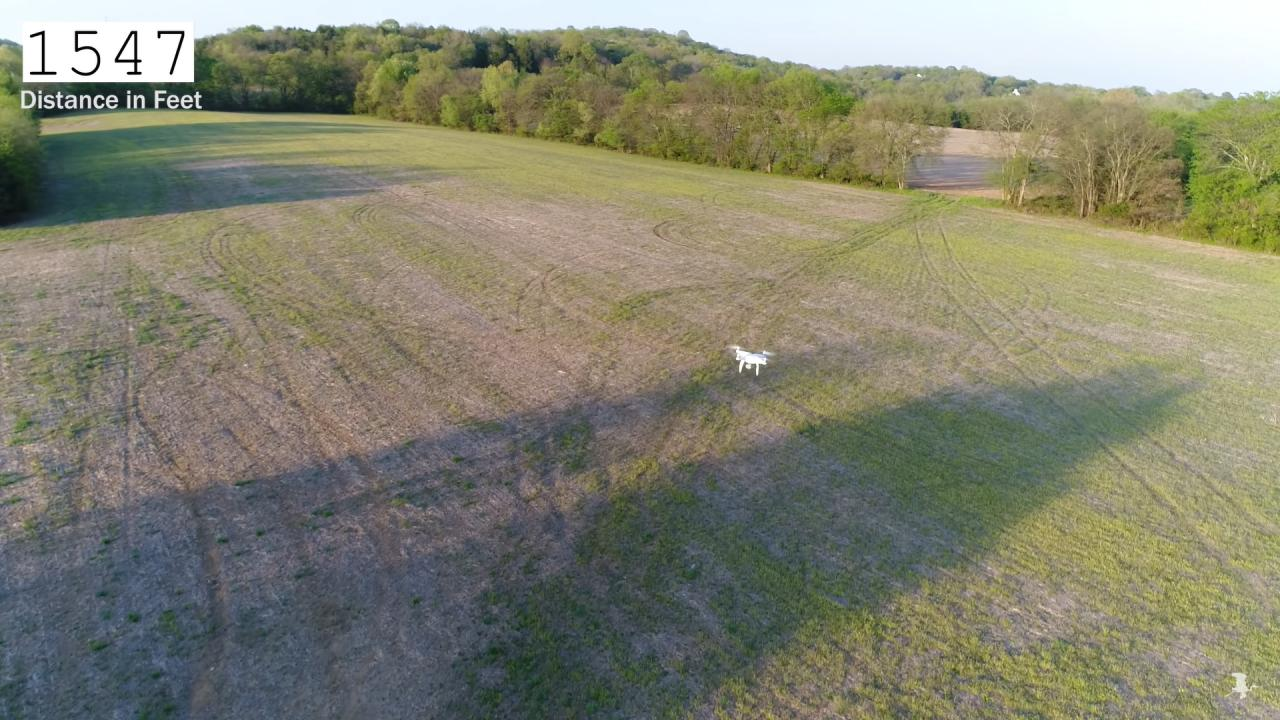Drone: (718, 336, 784, 384)
